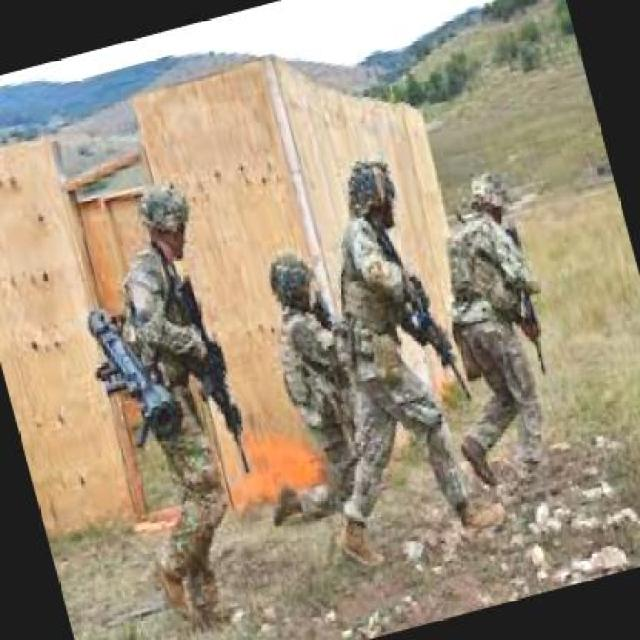MIL_Pax: (78, 176, 270, 559), (294, 150, 483, 530), (413, 166, 581, 491), (251, 244, 374, 493)
